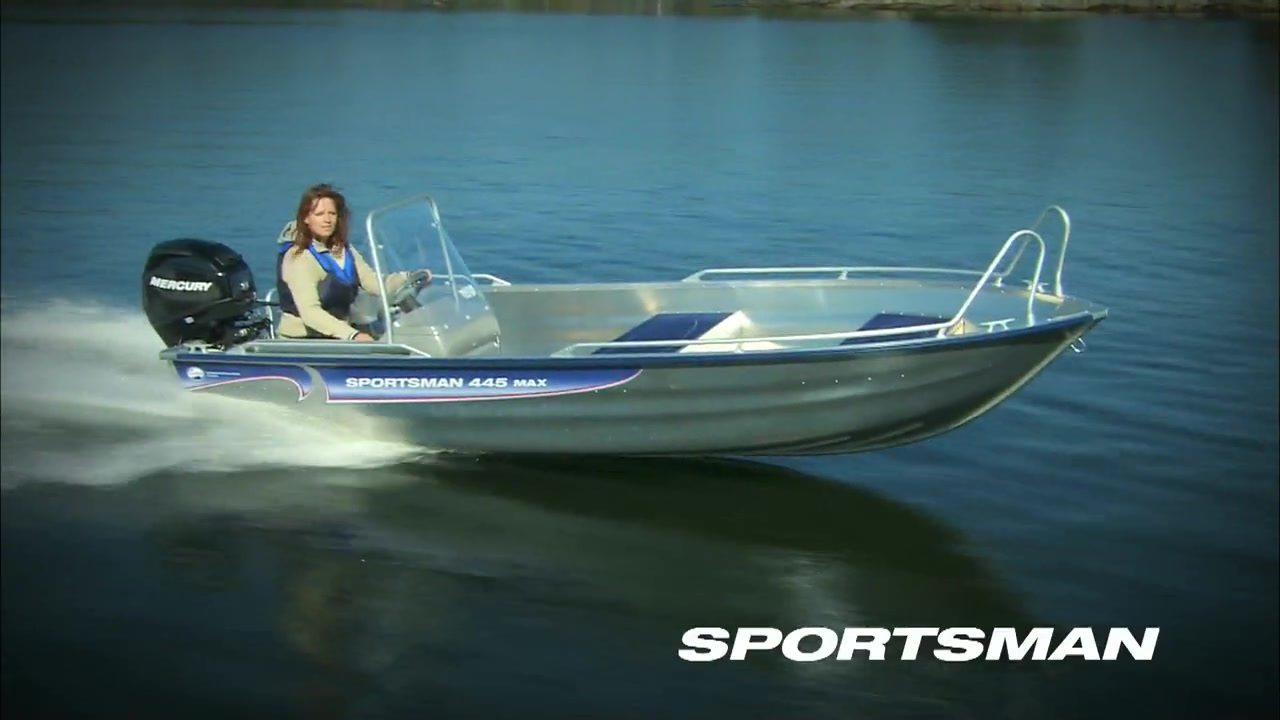boat: (137, 189, 1120, 464)
